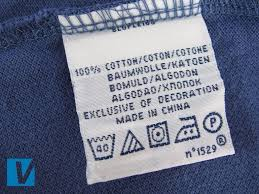ER_dry_clean_chemical: (203, 112, 224, 133)
ER_iron_medium_temp: (174, 113, 202, 144)
ER_non_chlorine_bleach: (117, 127, 146, 157)
ER_tumble_dry_low_heat: (145, 121, 171, 149)
ER_wash_40: (87, 134, 117, 162)
